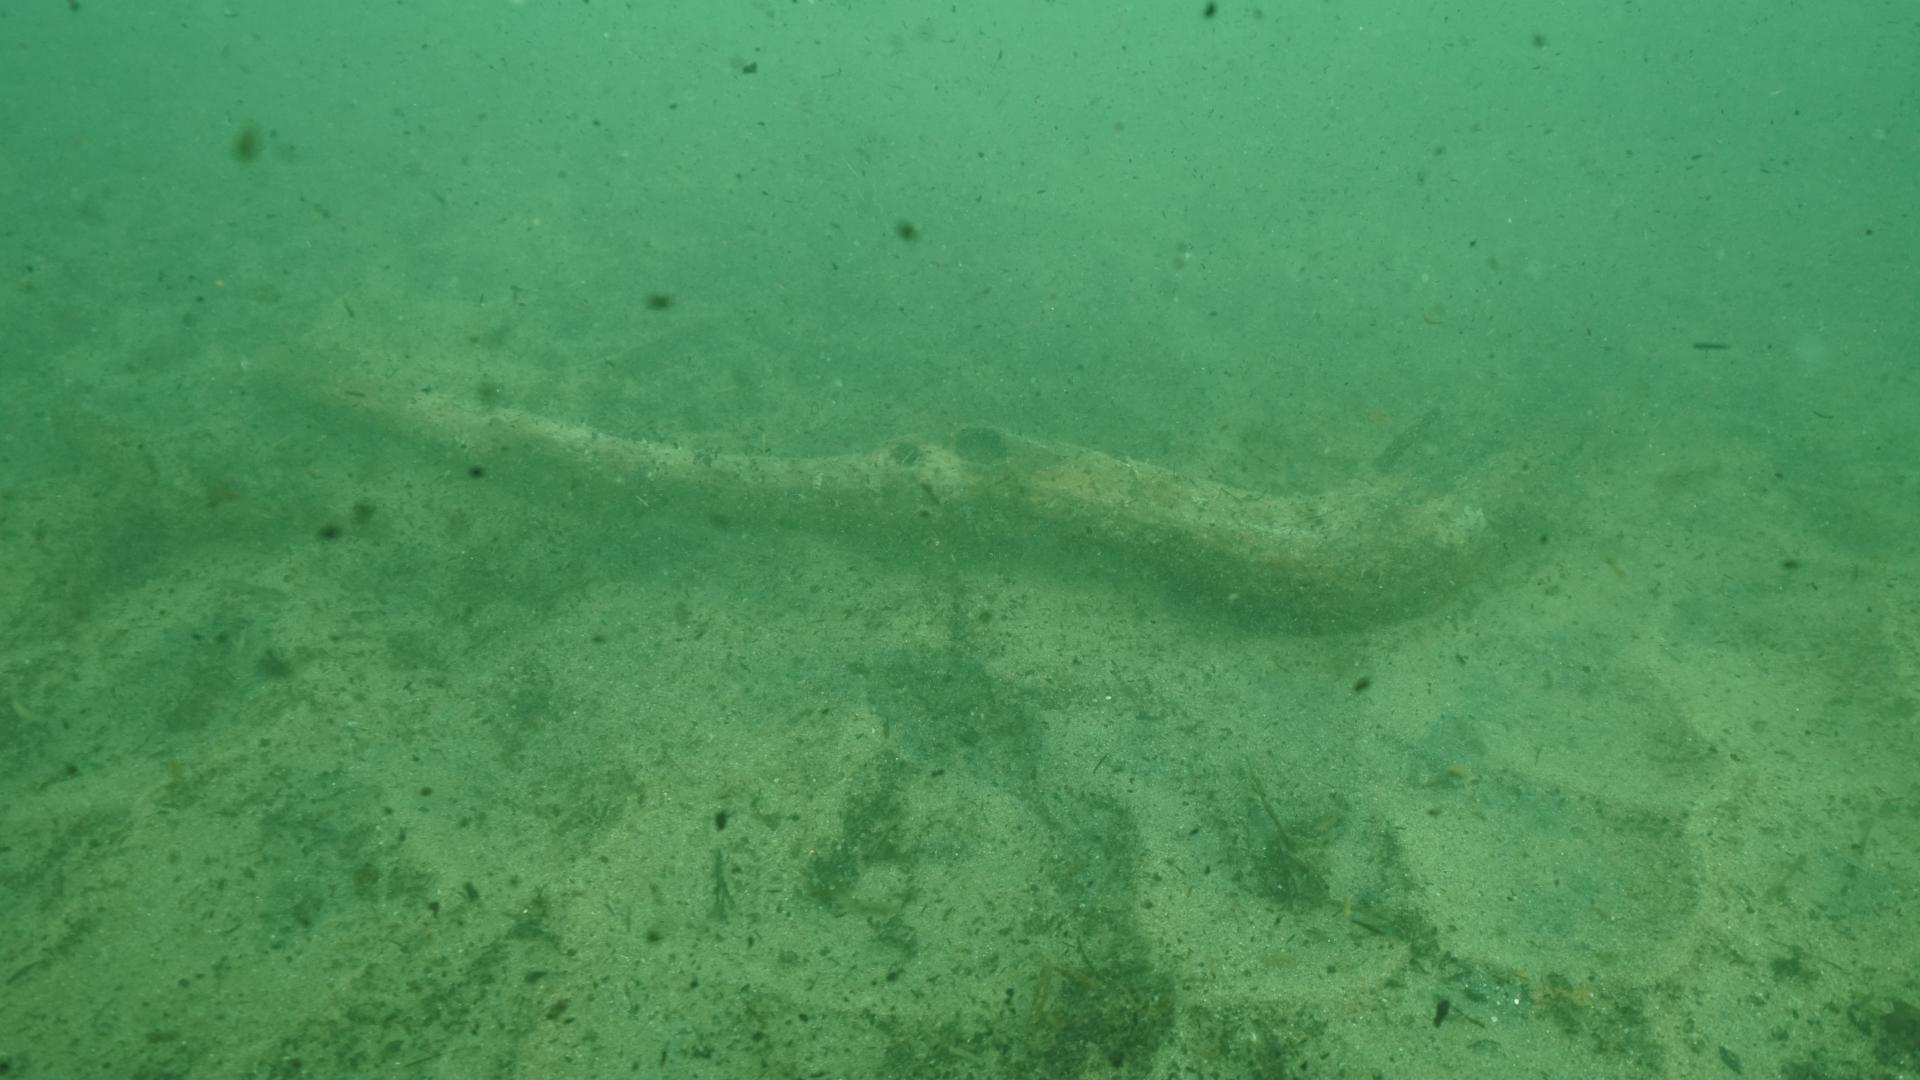wood: (289, 373, 1531, 628)
